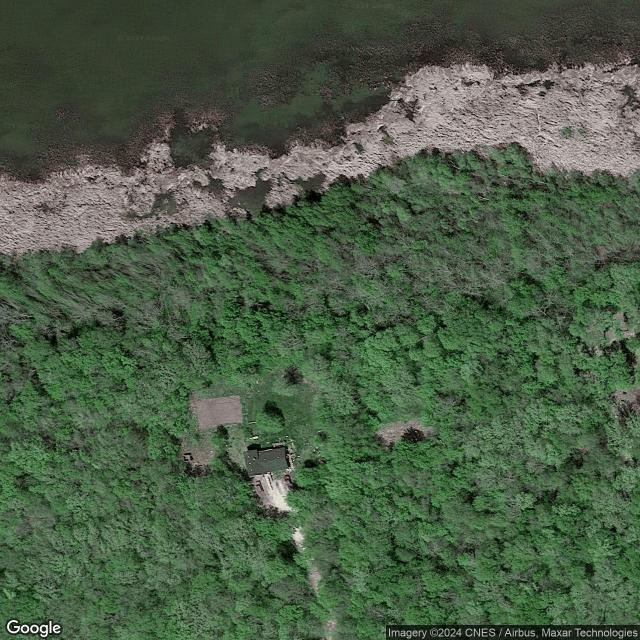Propane: (251, 434, 259, 440)
